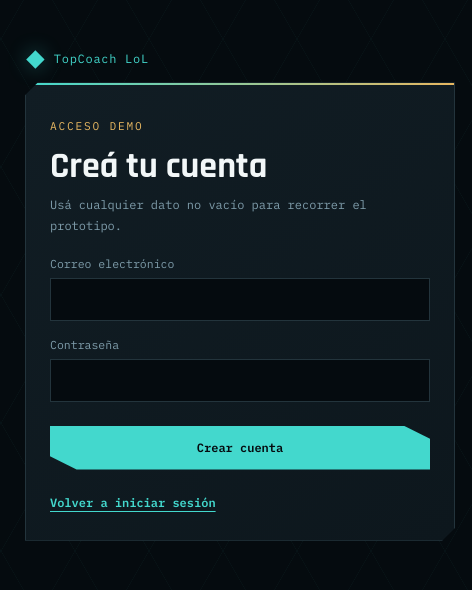
public journey › keeps registration in context when required fields are empty
Click the button "Crear cuenta".
click(240, 448)  # box [50,426,430,470]
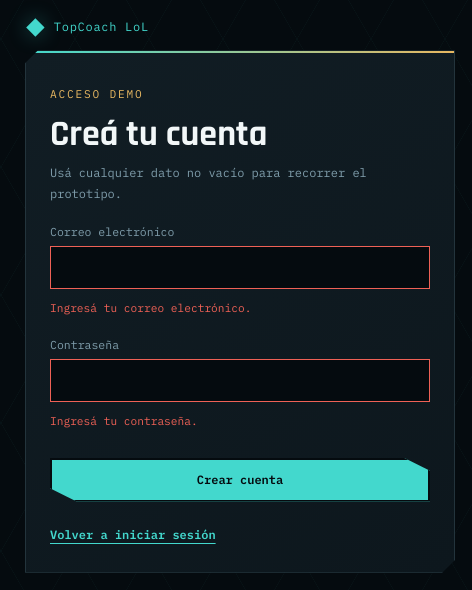
expect the number of messages is 2: met, box [50,301,251,315]; [50,414,198,428]
